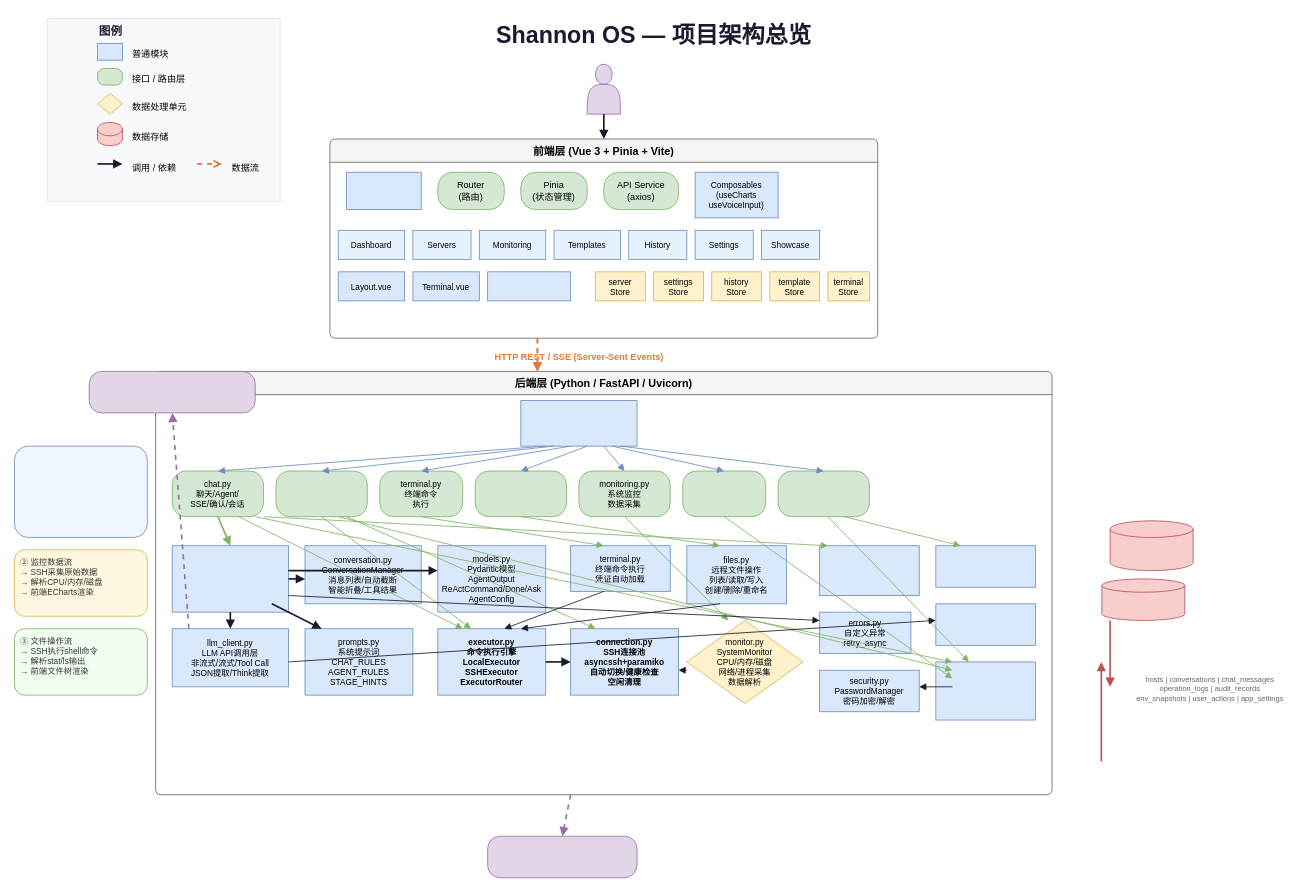
Image size: 1307x892. Some labels were removed from this diagram. The shapes that lost their labels are listed below. From the top down, each one's centre as x and y in pixels, then its label:
point (603, 88): 👤 用户
point (383, 190): App.vue (根组件)
point (529, 286): FileExplorer.vue
point (171, 392): 🤖 LLM API (DeepSeek / OpenAI兼容)
point (578, 423): main.py (FastAPI App) 启动/关闭/CORS/SPA
point (80, 491): ① 用户发送消息 → Agent分析意图 → LLM生成计划 → 用户确认 → ReAct循环执行 → SSE实时推送
point (321, 493): hosts.py 服务器CRUD 连接测试
point (520, 493): files.py 文件浏览 读写/创建/删除
point (724, 493): history.py 操作历史 环境快照
point (823, 493): settings.py 配置管理 API测试/模板
point (1151, 545): shannon.db (SQLite)
point (229, 578): agent.py ShannonAgent 意图分析/计划生成 风险验证/自我修复 ReAct循环编排
point (869, 570): events.py EventStore SSE事件缓存 订阅/发布/重放
point (985, 566): settings.py 配置管理 env>yaml>DB>默认
point (1143, 599): logs/ (LLM调用日志)
point (985, 624): logger.py LLM调用日志 API Key脱敏
point (985, 690): database.py SQLite数据层 主机/会话/操作日志 审计/快照/设置
point (562, 856): 🖥️ 目标服务器 (Linux SSH)
